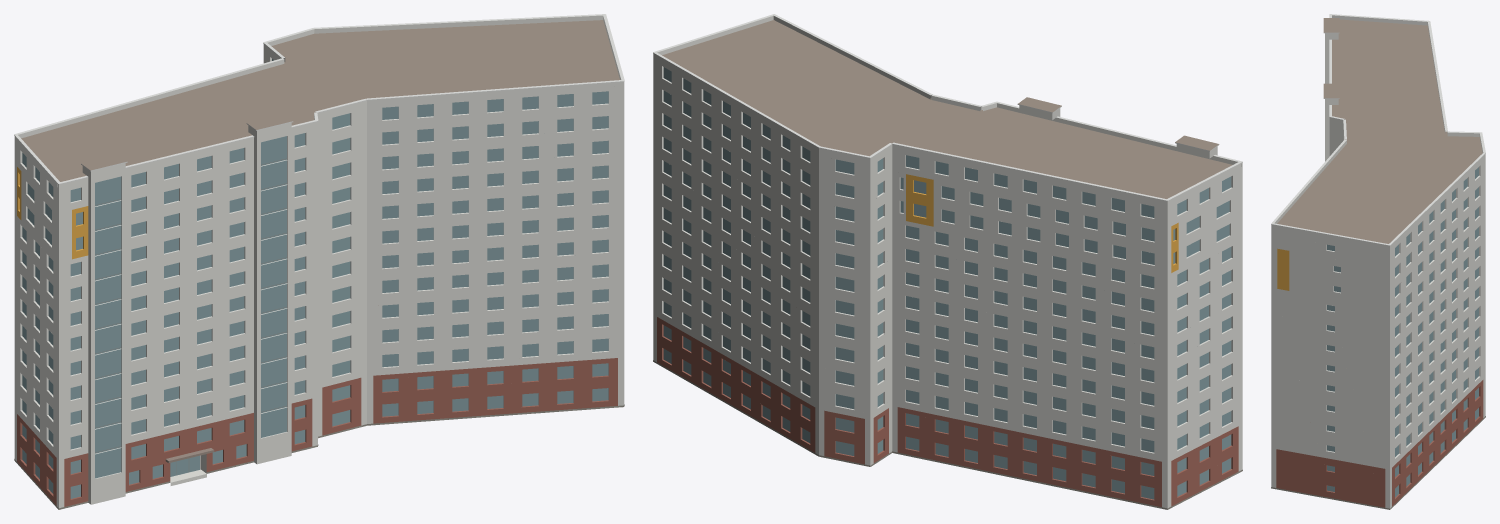
3 renders of one model, left to right at view 1: azimuth 30°, elevation 25°; view 2: azimuth 150°, elevation 25°; view 3: azimuth 270°, elevation 25°, orthographic. The views are drawn at different scales.
Visible parts, largest first — view 1: osm136242911__wall, osm136242911__glass, osm136242911__roof, osm136242911__wall2, osm136242911__parapet, osm136242911__trim, osm136242911__base, osm136242911__accent, osm136242911__frame; view 2: osm136242911__wall, osm136242911__glass, osm136242911__roof, osm136242911__wall2, osm136242911__parapet, osm136242911__trim, osm136242911__accent, osm136242911__base; view 3: osm136242911__wall, osm136242911__roof, osm136242911__wall2, osm136242911__glass, osm136242911__trim, osm136242911__parapet, osm136242911__accent, osm136242911__base.
Boxes of the visible parts, box(x1,y1,x2,y2) form: osm136242911__wall: box(14, 47, 624, 509); osm136242911__glass: box(22, 59, 608, 498); osm136242911__roof: box(21, 20, 619, 181); osm136242911__wall2: box(17, 358, 617, 506); osm136242911__parapet: box(14, 15, 624, 188); osm136242911__trim: box(14, 14, 624, 184); osm136242911__base: box(14, 404, 624, 509); osm136242911__accent: box(17, 167, 88, 259); osm136242911__frame: box(95, 158, 286, 474); osm136242911__wall: box(653, 57, 1242, 509); osm136242911__glass: box(663, 67, 1231, 499); osm136242911__roof: box(662, 20, 1232, 198); osm136242911__wall2: box(657, 317, 1238, 507); osm136242911__parapet: box(653, 15, 1242, 204); osm136242911__trim: box(653, 14, 1242, 201); osm136242911__accent: box(906, 174, 1178, 272); osm136242911__base: box(653, 360, 1242, 509); osm136242911__wall: box(1271, 33, 1485, 509); osm136242911__roof: box(1277, 18, 1482, 243); osm136242911__wall2: box(1276, 380, 1483, 507); osm136242911__glass: box(1327, 167, 1478, 497); osm136242911__trim: box(1271, 14, 1485, 245); osm136242911__parapet: box(1271, 15, 1485, 248); osm136242911__accent: box(1277, 248, 1289, 290); osm136242911__base: box(1271, 416, 1485, 509).
Size of the model in its own units: 74.24 by 41.05 by 29.13.
Materials: 12 (1 with a texture image).
